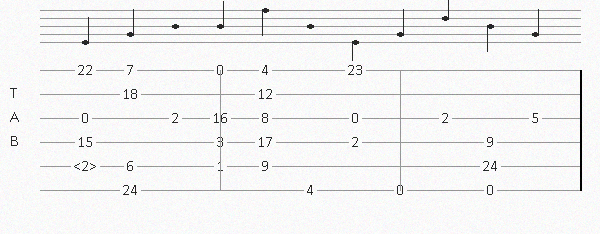0: (81, 111, 93, 125), (216, 63, 228, 77), (351, 111, 363, 125), (396, 183, 408, 197), (486, 183, 498, 197)
1: (216, 159, 228, 173)
12: (257, 87, 277, 101)
15: (77, 135, 97, 149)
16: (212, 111, 232, 125)
17: (257, 135, 277, 149)
18: (122, 87, 142, 101)
2: (171, 111, 183, 125), (351, 135, 363, 149), (441, 111, 453, 125)
22: (77, 63, 97, 77)
23: (347, 63, 367, 77)
24: (122, 183, 142, 197), (482, 159, 502, 173)
3: (216, 135, 228, 149)
4: (261, 63, 273, 77), (306, 183, 318, 197)
5: (531, 111, 543, 125)
6: (126, 159, 138, 173)
7: (126, 63, 138, 77)
8: (261, 111, 273, 125)
9: (261, 159, 273, 173), (486, 135, 498, 149)
harmonic: (73, 159, 101, 173)
